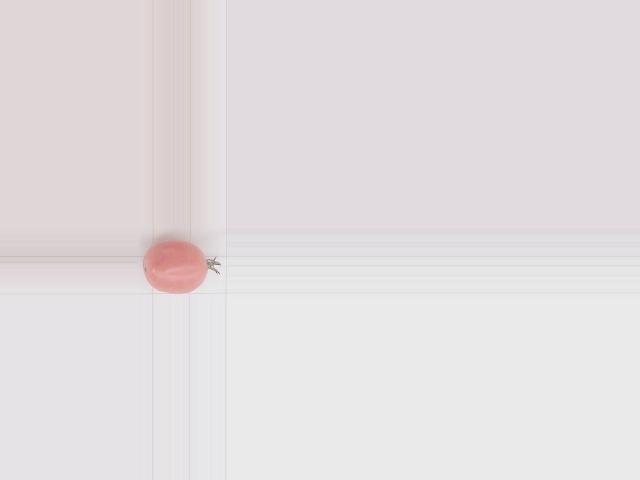tomato: (142, 240, 207, 294)
